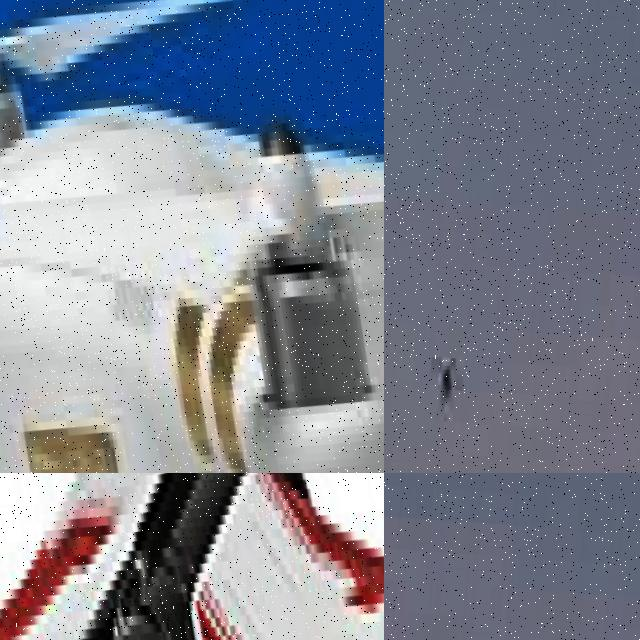drone: (0, 0, 384, 473), (0, 473, 384, 640)
